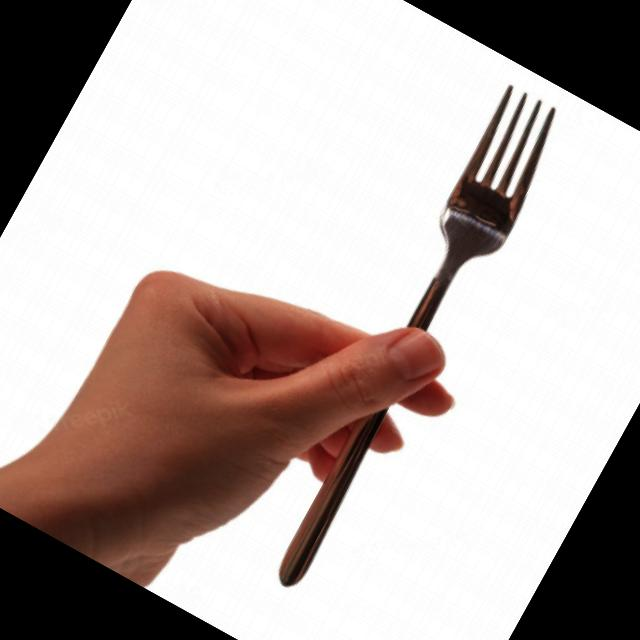fork: (240, 79, 576, 599)
